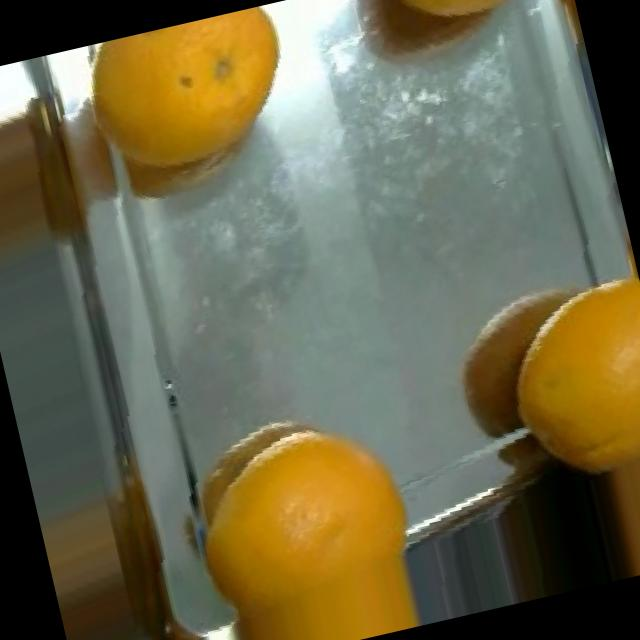Fruit: (428, 294, 549, 458)
